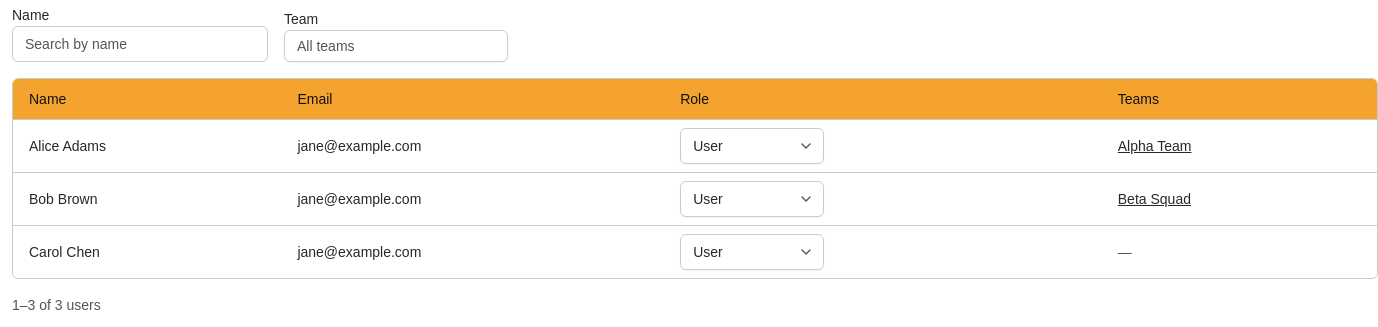
Test case: UsersTableClient — team filter › filters to users on a specific team
This screenshot has width=1378, height=327.
Click the dropdown labelled "Team".
click(396, 46)  # box [284,30,508,62]
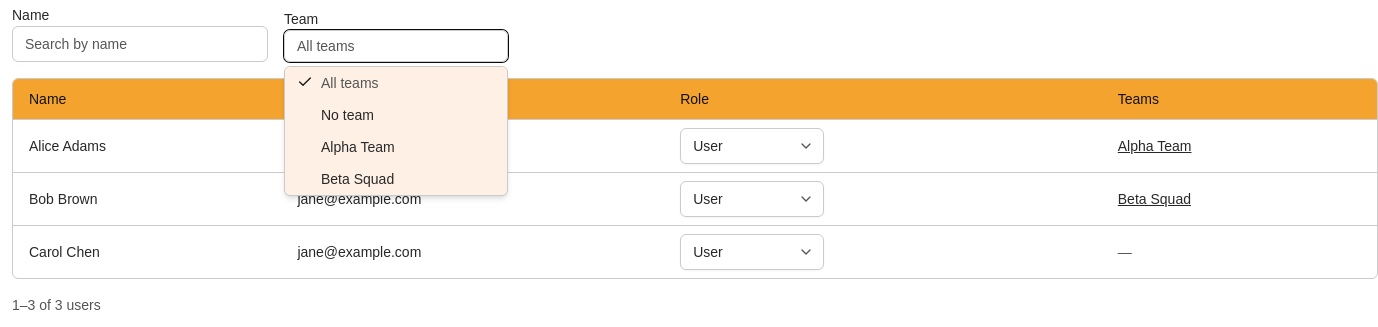
Click the option "Alpha Team".
click(396, 147)  # box [285,131,507,163]
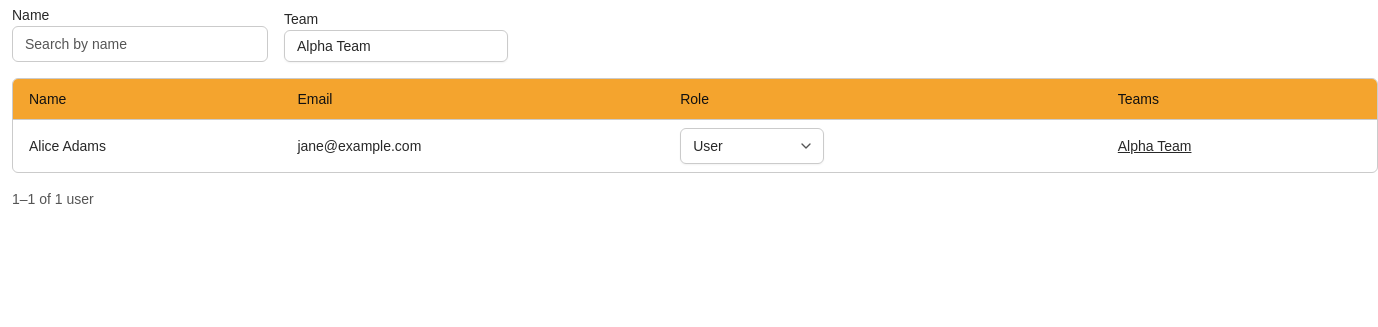
Expected: the text "Alice Adams" is shown, [29,138,106,154]
Expected: the text "Bob Brown" is gone
Expected: the text "Carol Chen" is gone
